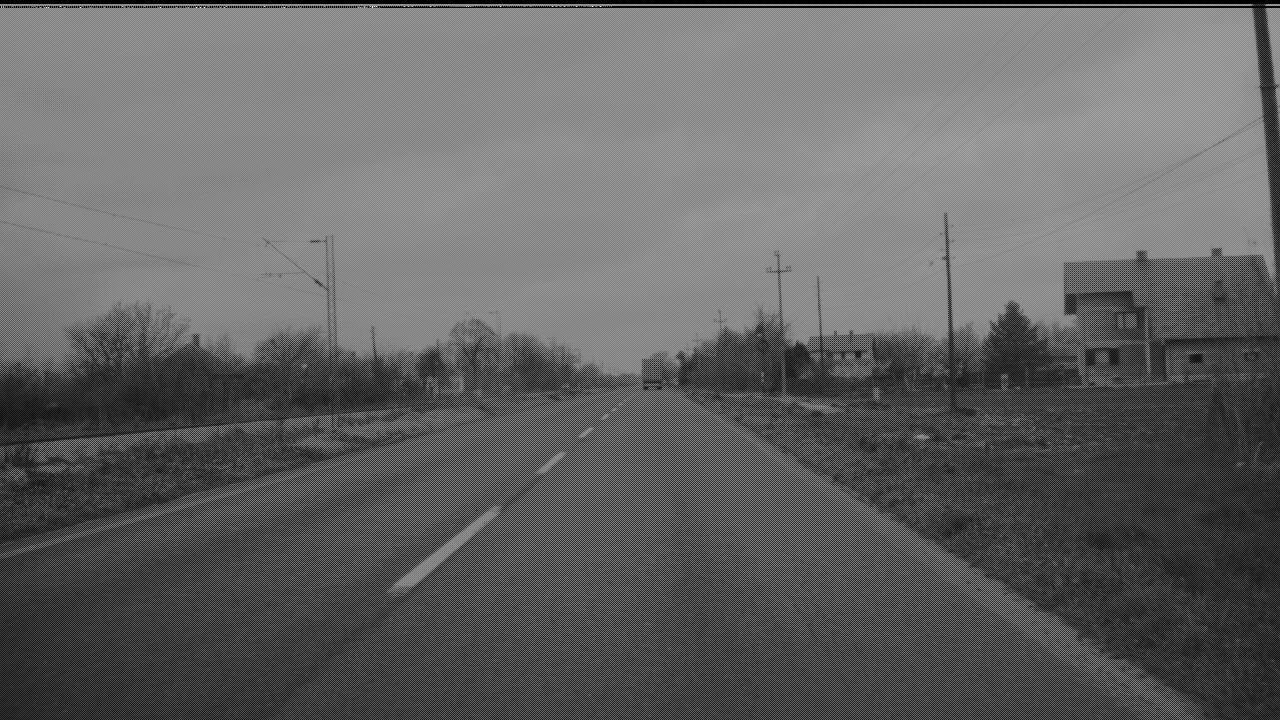pole: (940, 225, 956, 405), (324, 204, 338, 402), (494, 246, 504, 389)
